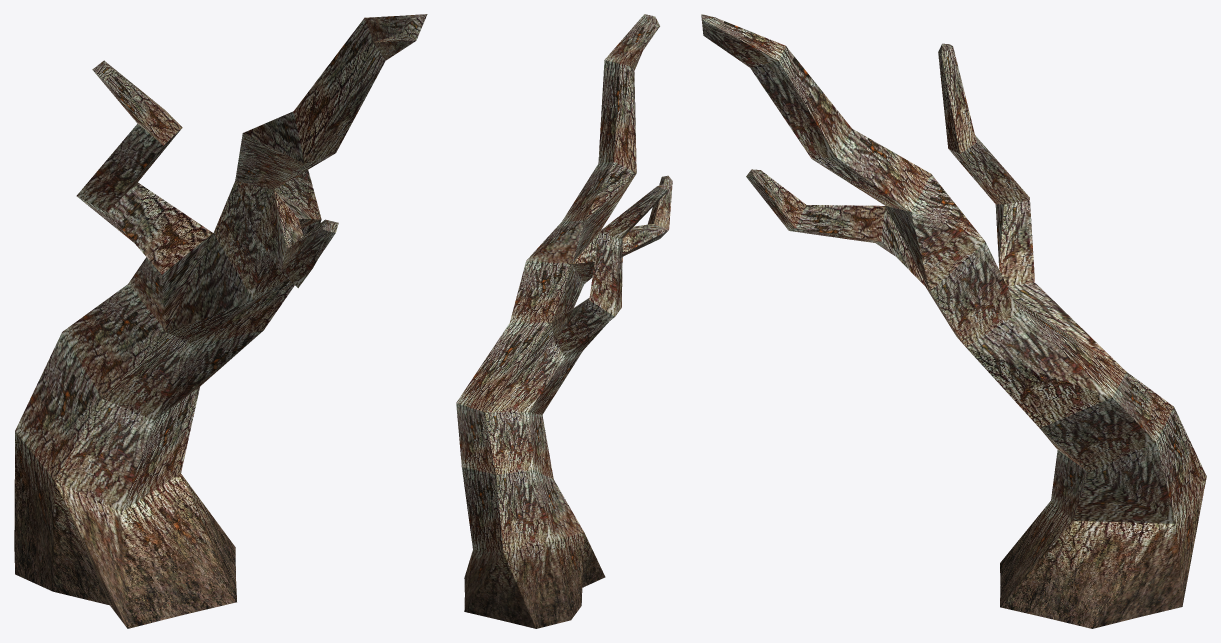
File: hr_tree2.glb
3 views of the same model, side by side, from view 1: azimuth 30°, elevation 25°; view 2: azimuth 150°, elevation 25°; view 3: azimuth 270°, elevation 25° (orthographic). The views are drawn at different scales.
Visible parts, largest first — view 1: hr_tree2; view 2: hr_tree2; view 3: hr_tree2.
Part boxes in pixels (x1,y1,x2,y2): hr_tree2: [14, 14, 427, 628]; hr_tree2: [456, 14, 672, 628]; hr_tree2: [701, 14, 1206, 628].
Size of the model in its own units: 5.54 by 16.48 by 12.77.
Materials: 2 (2 with a texture image).
